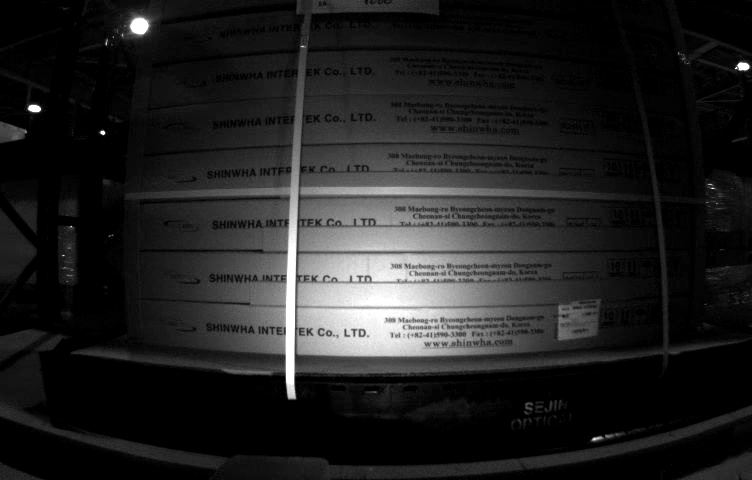True Barcode: (556, 298, 599, 337)
